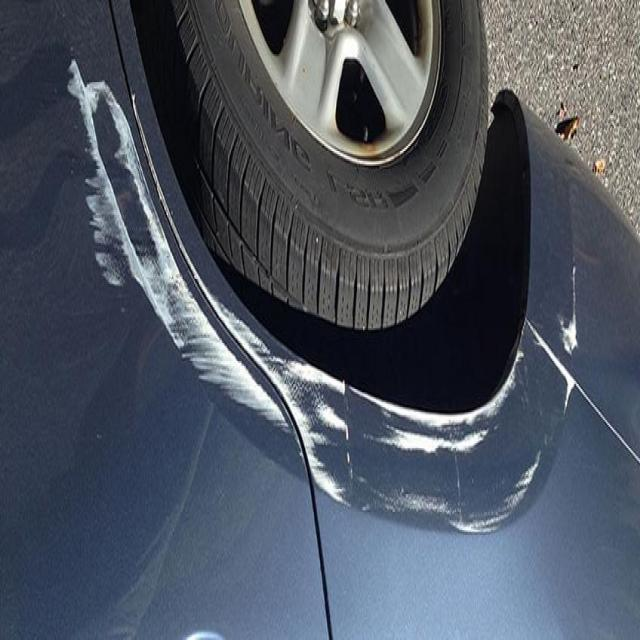scratch: (58, 48, 344, 504), (358, 328, 588, 555)
